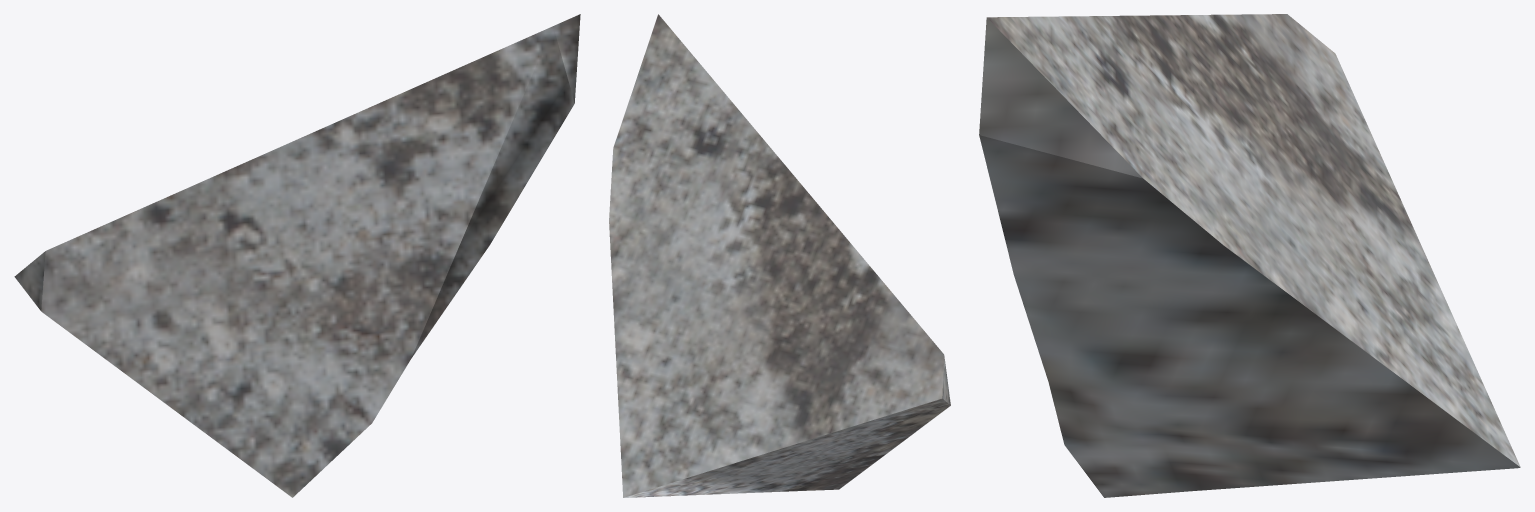
File: Asteroid_Medium_001_02_001_03_002.fbx
The picture shows the model from 3 angles, left to right: view 1: azimuth 30°, elevation 25°; view 2: azimuth 150°, elevation 25°; view 3: azimuth 270°, elevation 25°; orthographic projection. The views are drawn at different scales.
Visible parts, largest first — view 1: Asteroid_Medium_001_02_001_03_002; view 2: Asteroid_Medium_001_02_001_03_002; view 3: Asteroid_Medium_001_02_001_03_002.
Boxes of the visible parts, x1,y1,x2,y2 form: Asteroid_Medium_001_02_001_03_002: [14, 14, 580, 497]; Asteroid_Medium_001_02_001_03_002: [609, 14, 950, 497]; Asteroid_Medium_001_02_001_03_002: [979, 14, 1520, 497].
Bounding box in the file's own units: 6.29 × 6.12 × 4.59.
